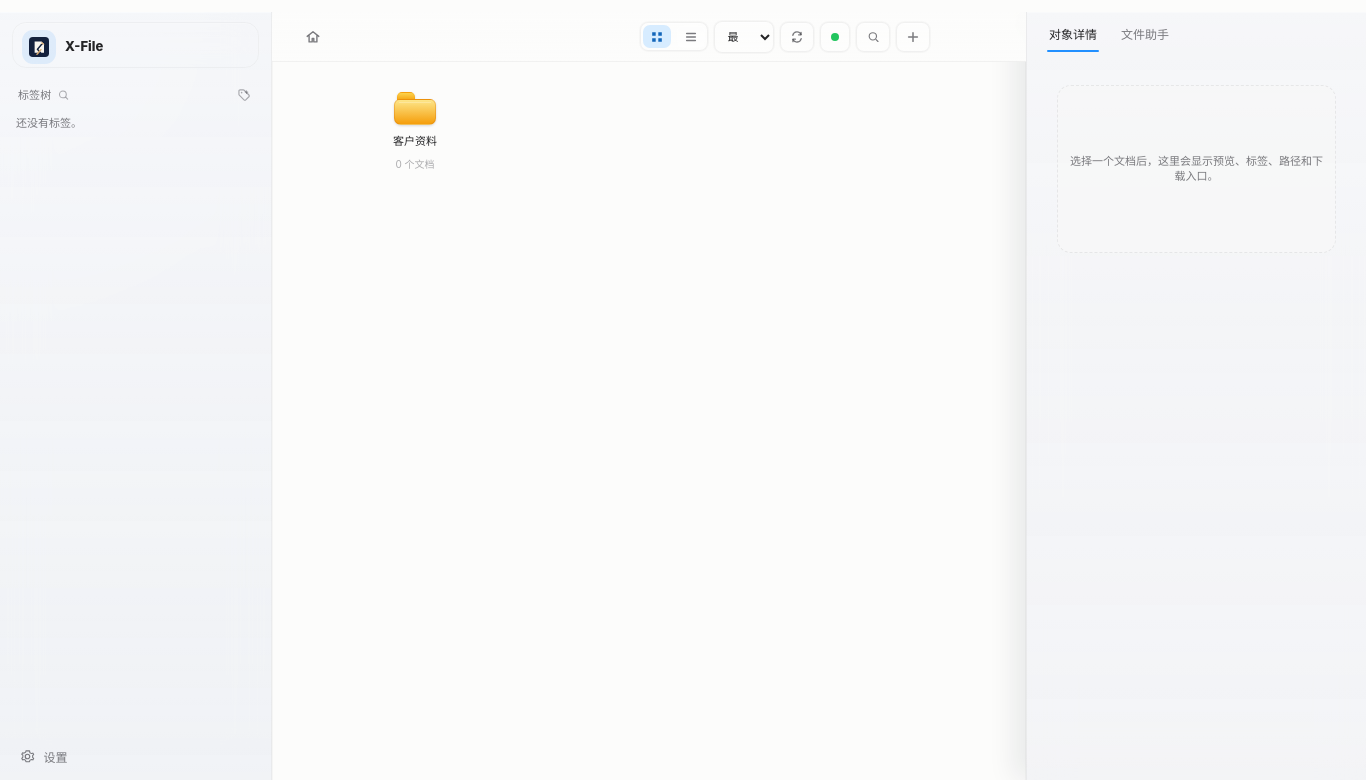
Test: 第 1 批：文档预览、编辑写回、Office 阅读视图与目录详情 › 目录详情标题居中显示，并复用和文档详情一致的摘要折叠逻辑
Click the button "客户资料 0 个文档" at [415, 128], box x1=361 y1=78 x2=469 y2=178
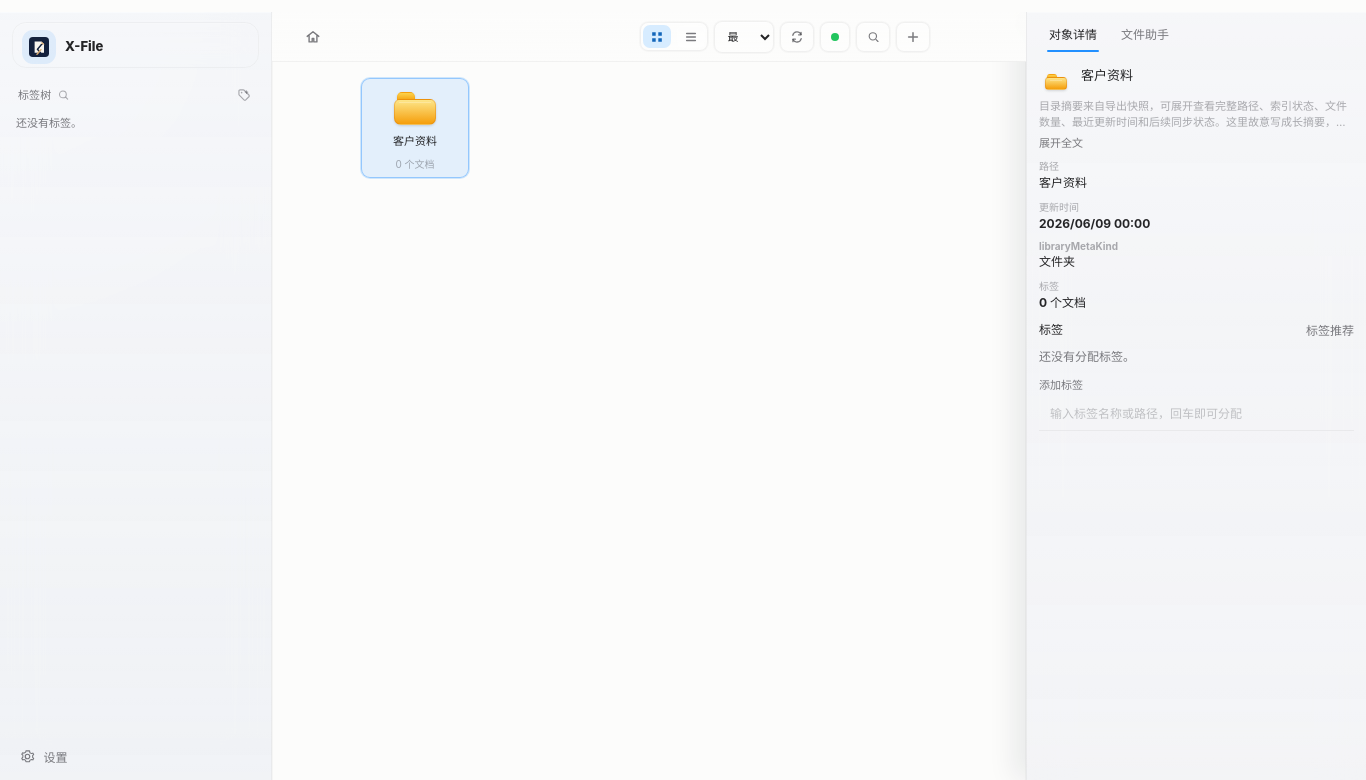
Now the heading "客户资料" is shown, box x1=1081 y1=67 x2=1133 y2=83
Click the button "展开全文" at [1061, 142], box x1=1039 y1=134 x2=1083 y2=150
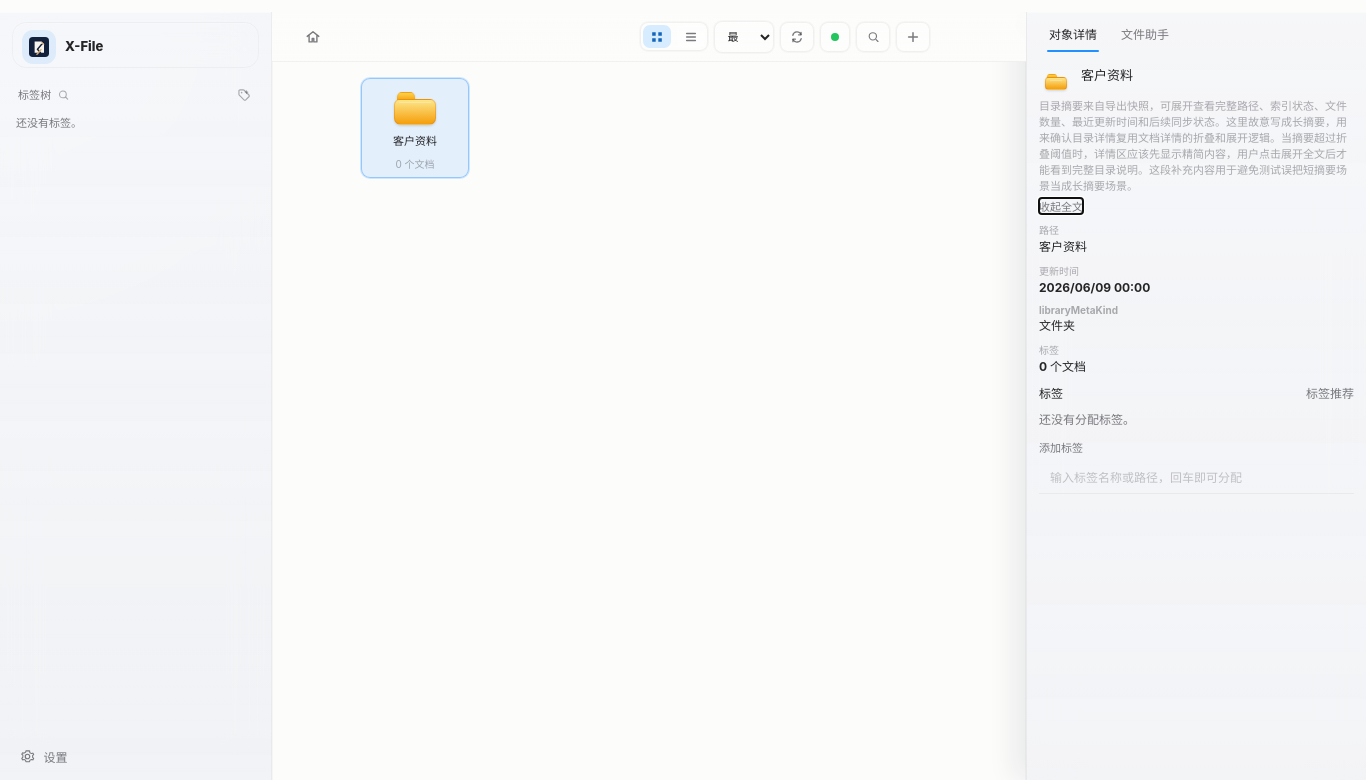
Now the button "收起全文" is shown, box x1=1039 y1=198 x2=1083 y2=214
